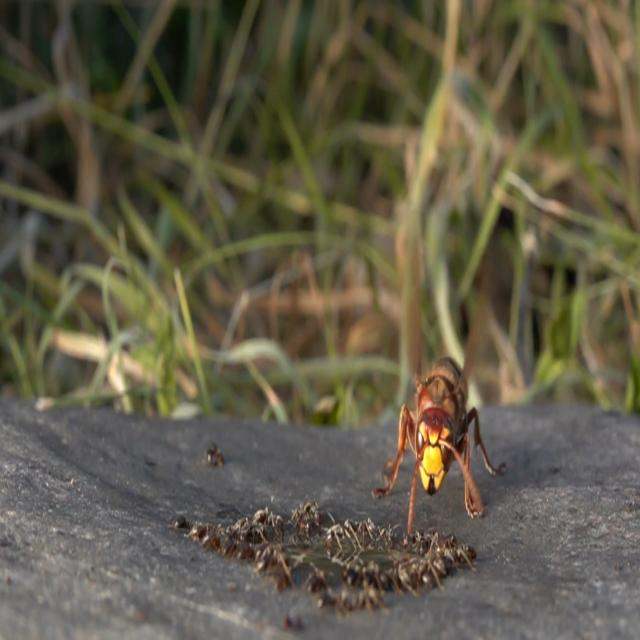Hornets: (378, 352, 510, 540)
